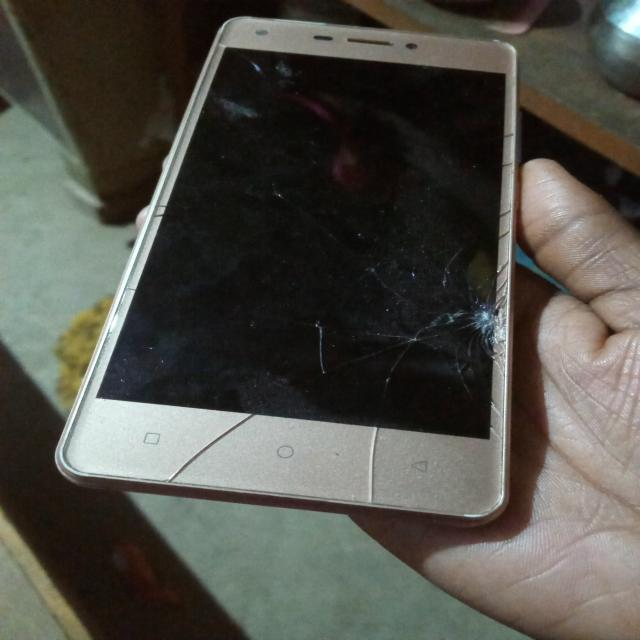screen crack: (169, 121, 536, 507)
